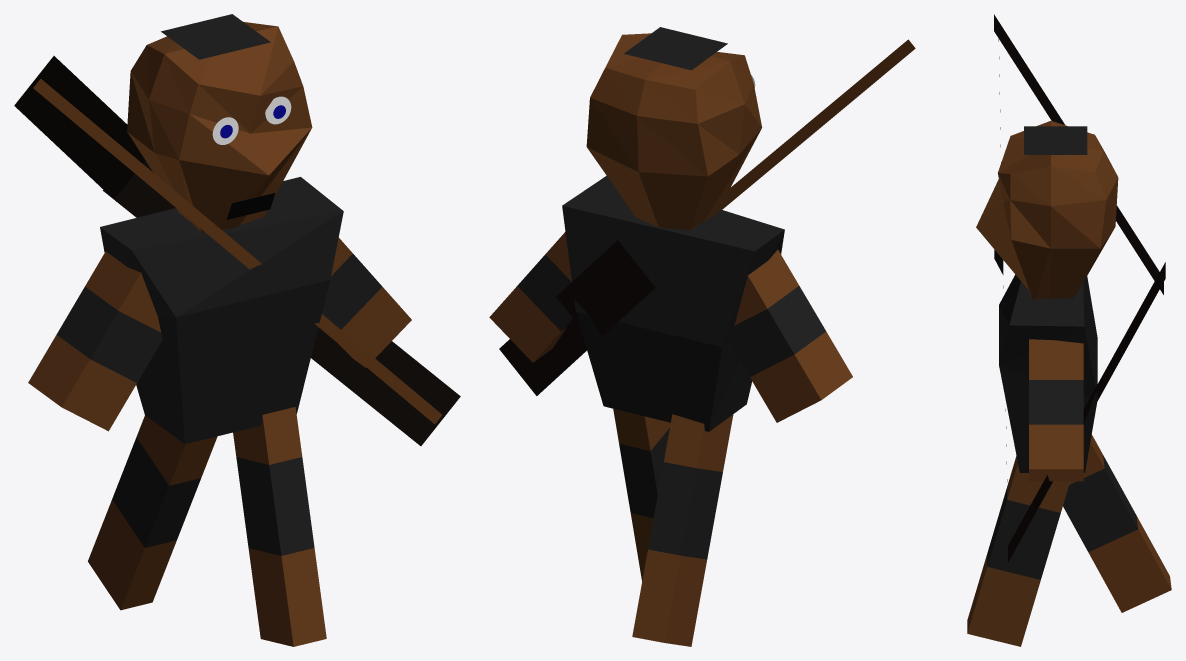
The model's file is archer2.obj.
The picture shows the model from 3 angles, left to right: view 1: azimuth 30°, elevation 25°; view 2: azimuth 150°, elevation 25°; view 3: azimuth 270°, elevation 25°; orthographic projection. The views are drawn at different scales.
Parts seen in each view (by area): view 1: Cube.001, Cube, Cube.005, Cube.003, Cube.004, Plane.001_Plane.002, Plane.002_Plane.003, Plane.003_Plane.004, Cube.002, Plane.004_Plane.001, Plane; view 2: Cube.001, Cube, Cube.004, Cube.003, Plane.001_Plane.002, Cube.002, Cube.005, Plane.003_Plane.004, Plane.004_Plane.001; view 3: Cube, Cube.005, Cube.001, Cube.004, Cube.002, Plane.001_Plane.002, Plane.002_Plane.003, Plane.004_Plane.001.
Part boxes in pixels (<box>): Cube.001: <box>100,177,343,443</box>; Cube: <box>127,22,312,232</box>; Cube.005: <box>233,407,326,646</box>; Cube.003: <box>28,251,162,431</box>; Cube.004: <box>88,415,217,610</box>; Plane.001_Plane.002: <box>103,160,460,445</box>; Plane.002_Plane.003: <box>14,56,145,201</box>; Plane.003_Plane.004: <box>33,78,442,424</box>; Cube.002: <box>322,237,411,367</box>; Plane.004_Plane.001: <box>161,14,270,59</box>; Plane: <box>226,193,275,219</box>; Cube.001: <box>562,175,784,431</box>; Cube: <box>586,33,762,230</box>; Cube.004: <box>632,414,733,646</box>; Cube.003: <box>729,249,852,422</box>; Plane.001_Plane.002: <box>499,240,655,395</box>; Cube.002: <box>489,232,572,362</box>; Cube.005: <box>613,409,670,581</box>; Plane.003_Plane.004: <box>719,39,915,209</box>; Plane.004_Plane.001: <box>624,27,727,70</box>; Cube: <box>976,121,1118,299</box>; Cube.005: <box>967,455,1070,646</box>; Cube.001: <box>999,274,1097,472</box>; Cube.004: <box>1063,434,1171,612</box>; Cube.002: <box>1029,339,1083,481</box>; Plane.001_Plane.002: <box>1008,262,1165,562</box>; Plane.002_Plane.003: <box>994,14,1163,294</box>; Plane.004_Plane.001: <box>1024,126,1087,154</box>.
Size of the model in its own units: 1.06 by 1.44 by 0.5031.
